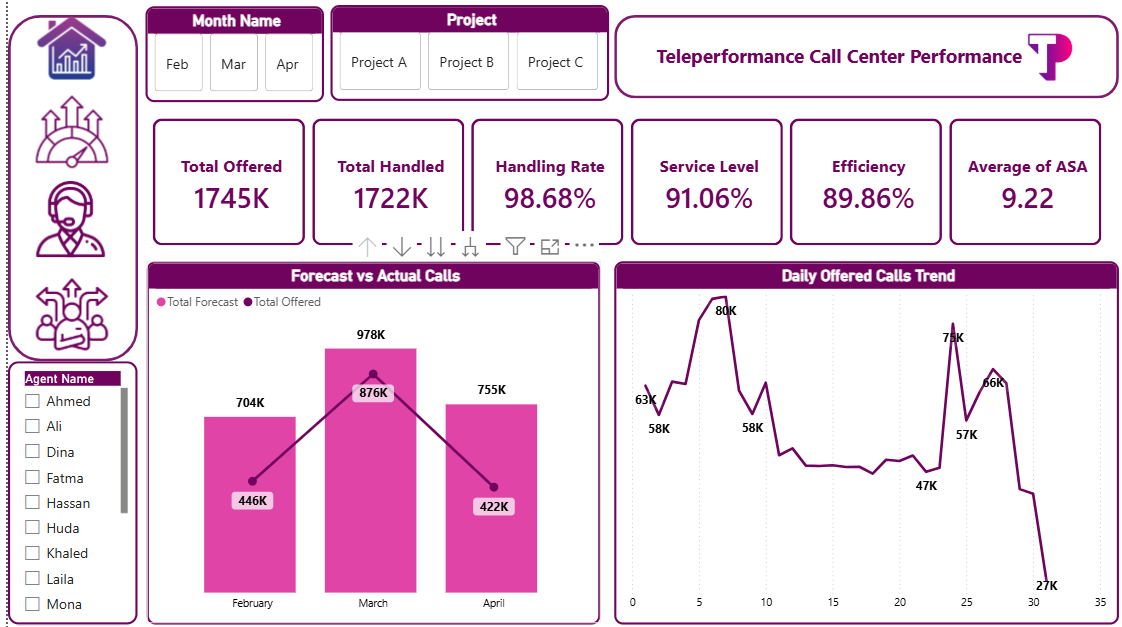

The page's visual inventory and layout, read from the dashboard file:
{"tool":"powerbi","page":{"name":"Executive Dashboard","canvas":[1280,720],"ordinal":1},"visuals":[{"type":"shape","box":[692.5,16.9,576.7,95.3],"z":0},{"type":"shape","box":[0,17.1,148.6,395.7],"z":1000},{"type":"image","box":[1097.9,22.9,182.2,76],"z":2000},{"type":"cardVisual","title":"dfvdv","fields":{"Data":["Sallah Call Center.Total Offered","Sallah Call Center.Total Handled","Sallah Call Center.Handling Rate","Sallah Call Center.Service Level","Sallah Call Center.Efficiency","Avg(Sallah Call Center.ASA)"]},"box":[148.4,118.2,1122,179.8],"z":3000},{"type":"actionButton","box":[717.8,24.1,465.7,76],"z":4000},{"type":"lineStackedColumnComboChart","title":"Forecast vs Actual Calls","fields":{"Category":["Calendar.Date.Variation.Date Hierarchy.Month","Calendar.Day Name"],"Y":["Sallah Call Center.Total Forecast"],"Y2":["Sallah Call Center.Total Offered"]},"box":[158,298,518.8,415],"z":5000},{"type":"lineChart","title":"Daily Offered Calls Trend","fields":{"Y":["Sallah Call Center.Total Offered"],"Category":["Calendar.Date.Variation.Date Hierarchy.Day"]},"box":[692.5,298,576.7,415],"z":6000},{"type":"advancedSlicerVisual","fields":{"Values":["Sallah Call Center.Project"]},"box":[369.2,6,318.5,109.8],"z":7000},{"type":"advancedSlicerVisual","fields":{"Values":["Sallah Call Center.Month Name"]},"box":[156.8,7.2,203.9,109.8],"z":8000},{"type":"slicer","fields":{"Values":["Sallah Call Center.Agent Name"]},"box":[0,412.6,148.4,300.4],"z":9000},{"type":"actionButton","box":[22.9,7.1,100,95.7],"z":10000},{"type":"actionButton","box":[22.9,102.9,100,95.7],"z":11000},{"type":"actionButton","box":[22.9,311.4,100,95.7],"z":12000},{"type":"actionButton","box":[21.7,202.7,100.1,95.3],"z":13000}]}

Visuals, with their boxes in screenshot pixels (x1, y1, x2, y2), scaled from the page's 1280x720 canvas onto the 1122x627 screenshot:
shape: (607,15,1113,98)
shape: (0,15,130,359)
image: (962,20,1121,86)
"dfvdv" cardVisual: (130,103,1114,260)
actionButton: (629,21,1037,87)
"Forecast vs Actual Calls" lineStackedColumnComboChart: (138,260,593,621)
"Daily Offered Calls Trend" lineChart: (607,260,1113,621)
advancedSlicerVisual - Sallah Call Center.Project: (324,5,603,101)
advancedSlicerVisual - Sallah Call Center.Month Name: (137,6,316,102)
slicer - Sallah Call Center.Agent Name: (0,359,130,621)
actionButton: (20,6,108,90)
actionButton: (20,90,108,173)
actionButton: (20,271,108,355)
actionButton: (19,177,107,260)
